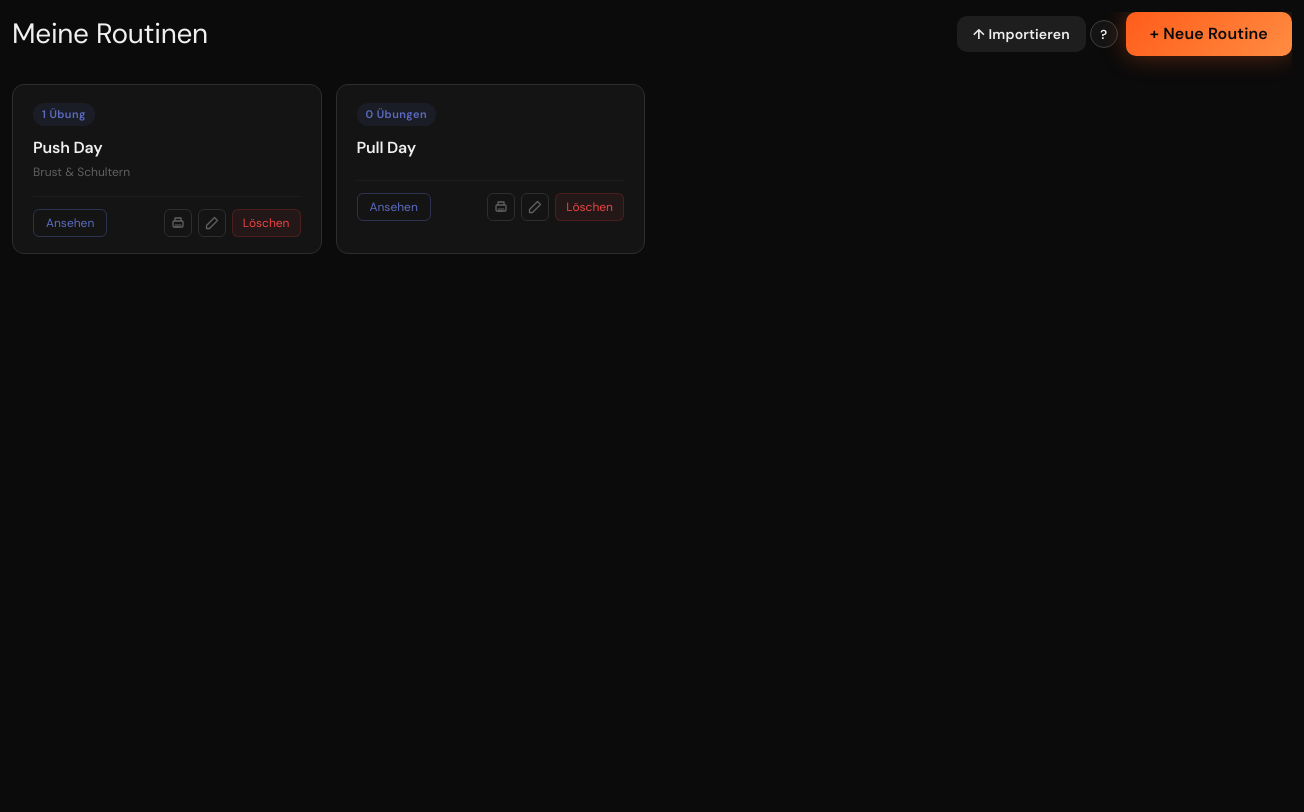
Test: RoutineList – Import-Infobox › opens infobox on ? button click
Click the button named "import-hilfe anzeigen".
click(1104, 34)  # box 1090,20 -> 1118,48
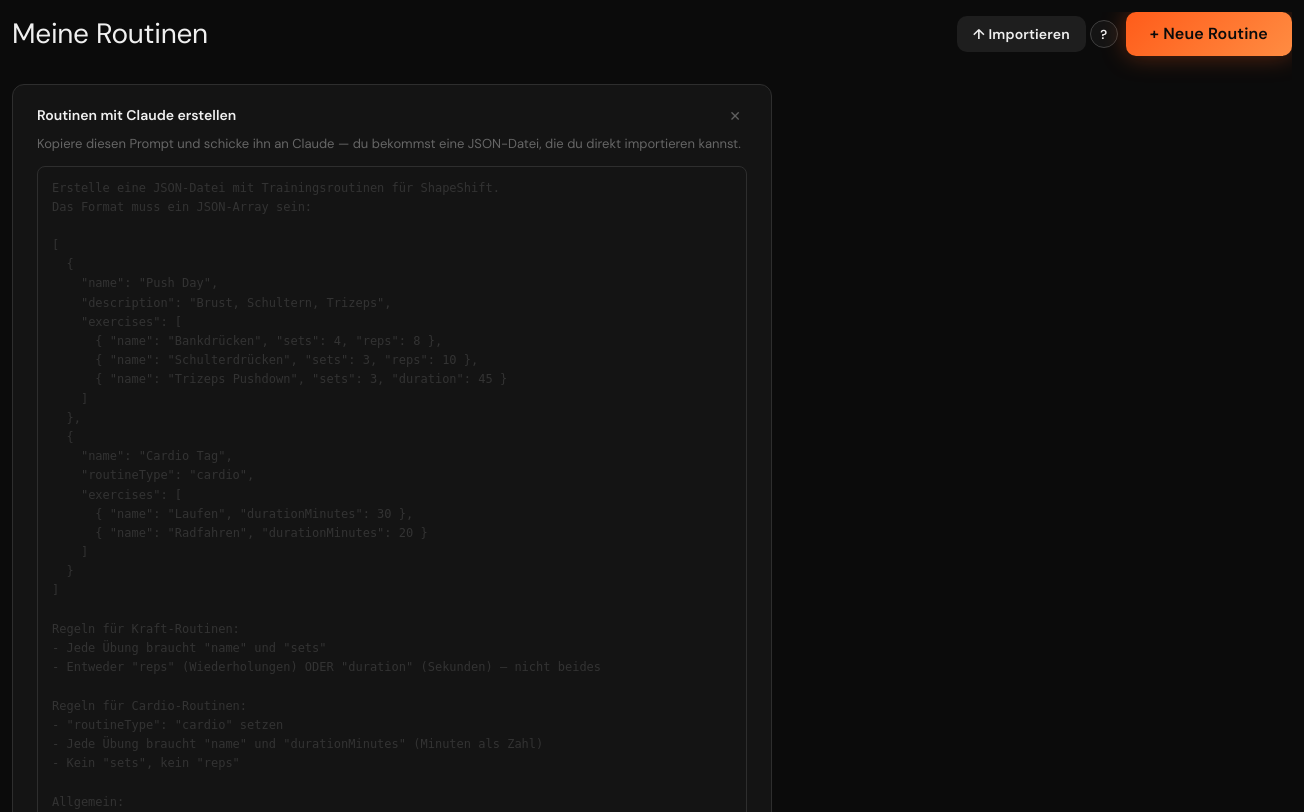
Check: the text "Routinen mit Claude erstellen" is shown, box 37,105 -> 236,126
